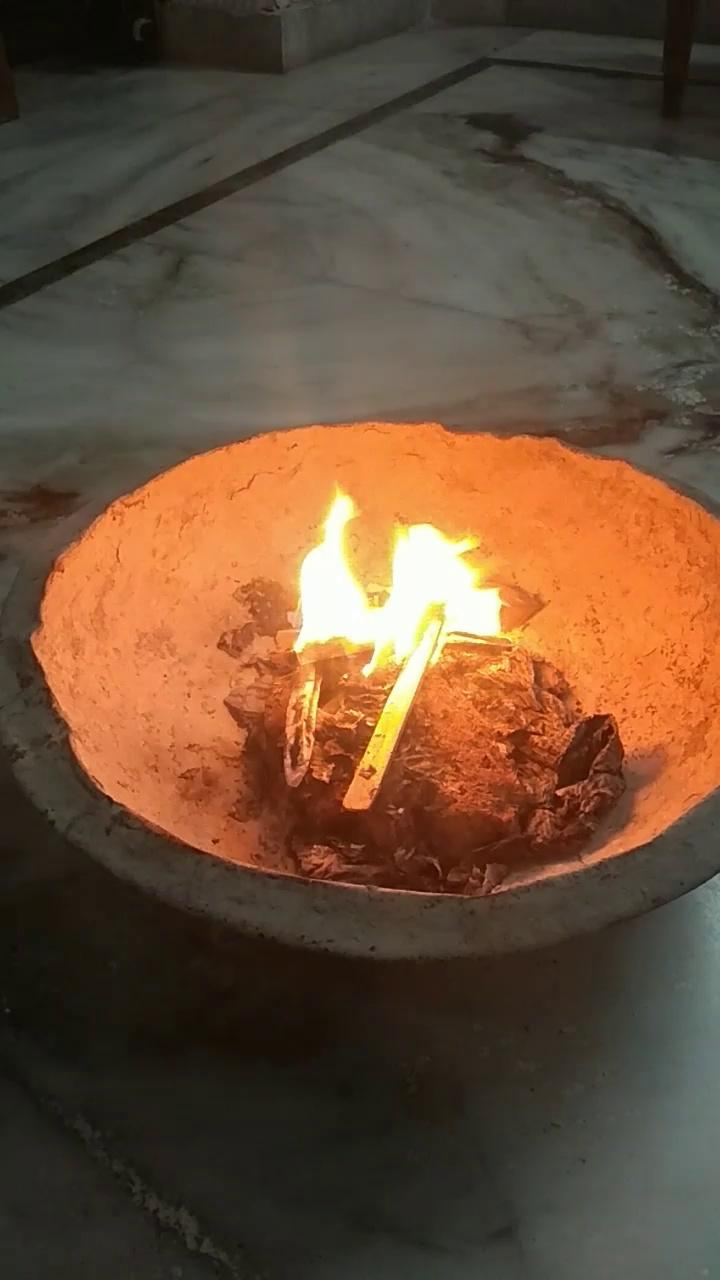fire: (252, 476, 525, 708)
